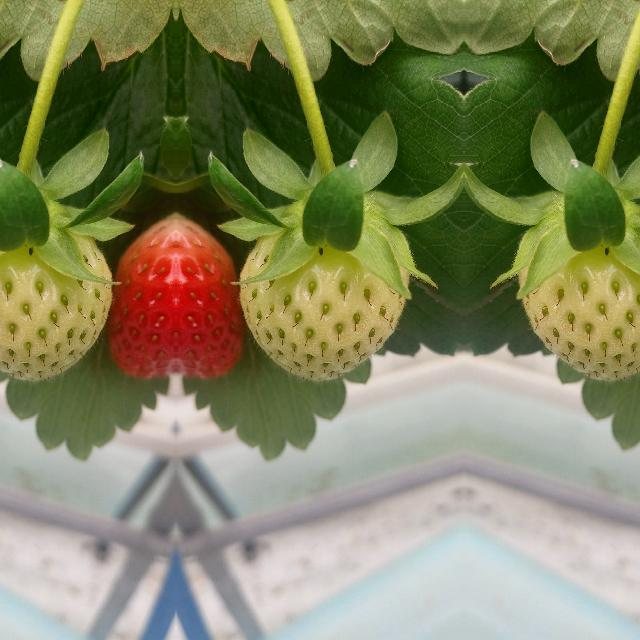Health_100: (112, 202, 176, 386), (175, 202, 238, 386)
Health_25: (238, 228, 408, 380), (518, 228, 640, 380), (0, 228, 111, 380)
